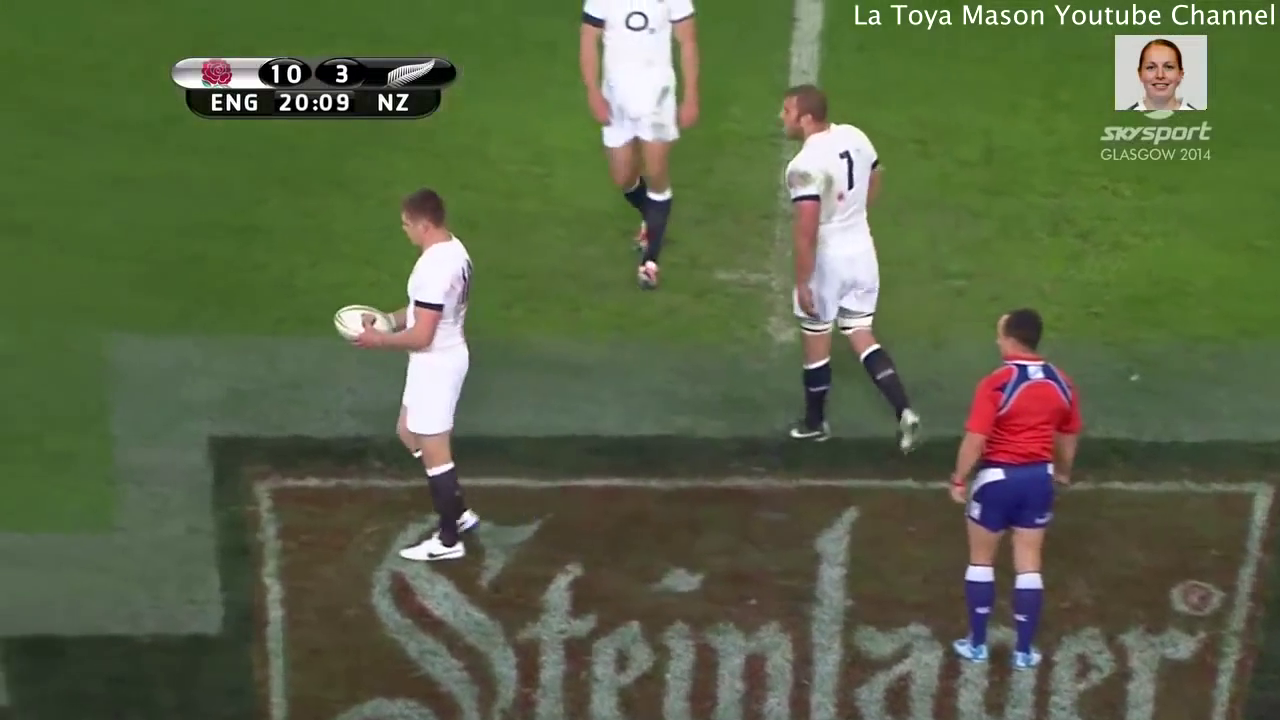ball: (332, 289, 404, 360)
player: (769, 82, 930, 464), (941, 300, 1090, 675), (357, 180, 487, 568), (569, 1, 717, 290)
